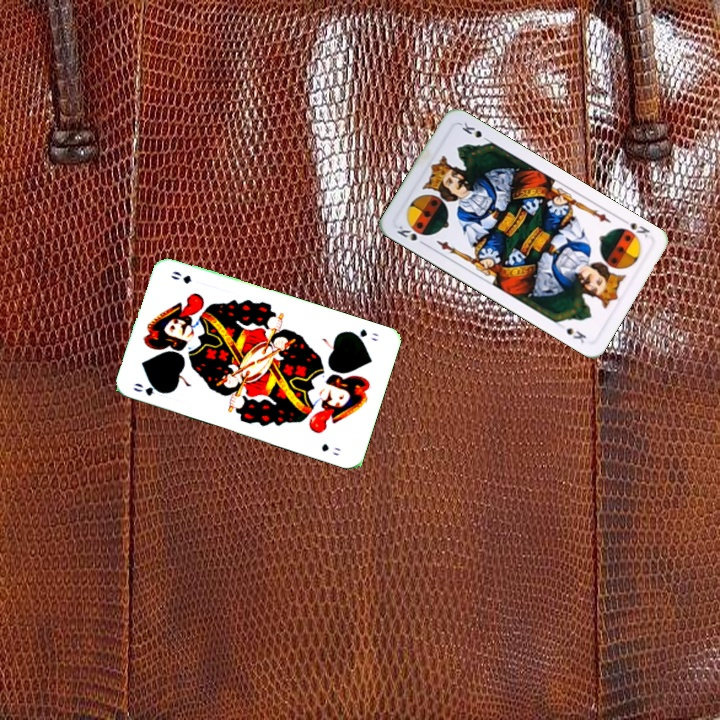GO: (129, 379, 170, 399), (345, 325, 381, 344)
SK: (392, 221, 429, 249), (617, 214, 653, 240)
